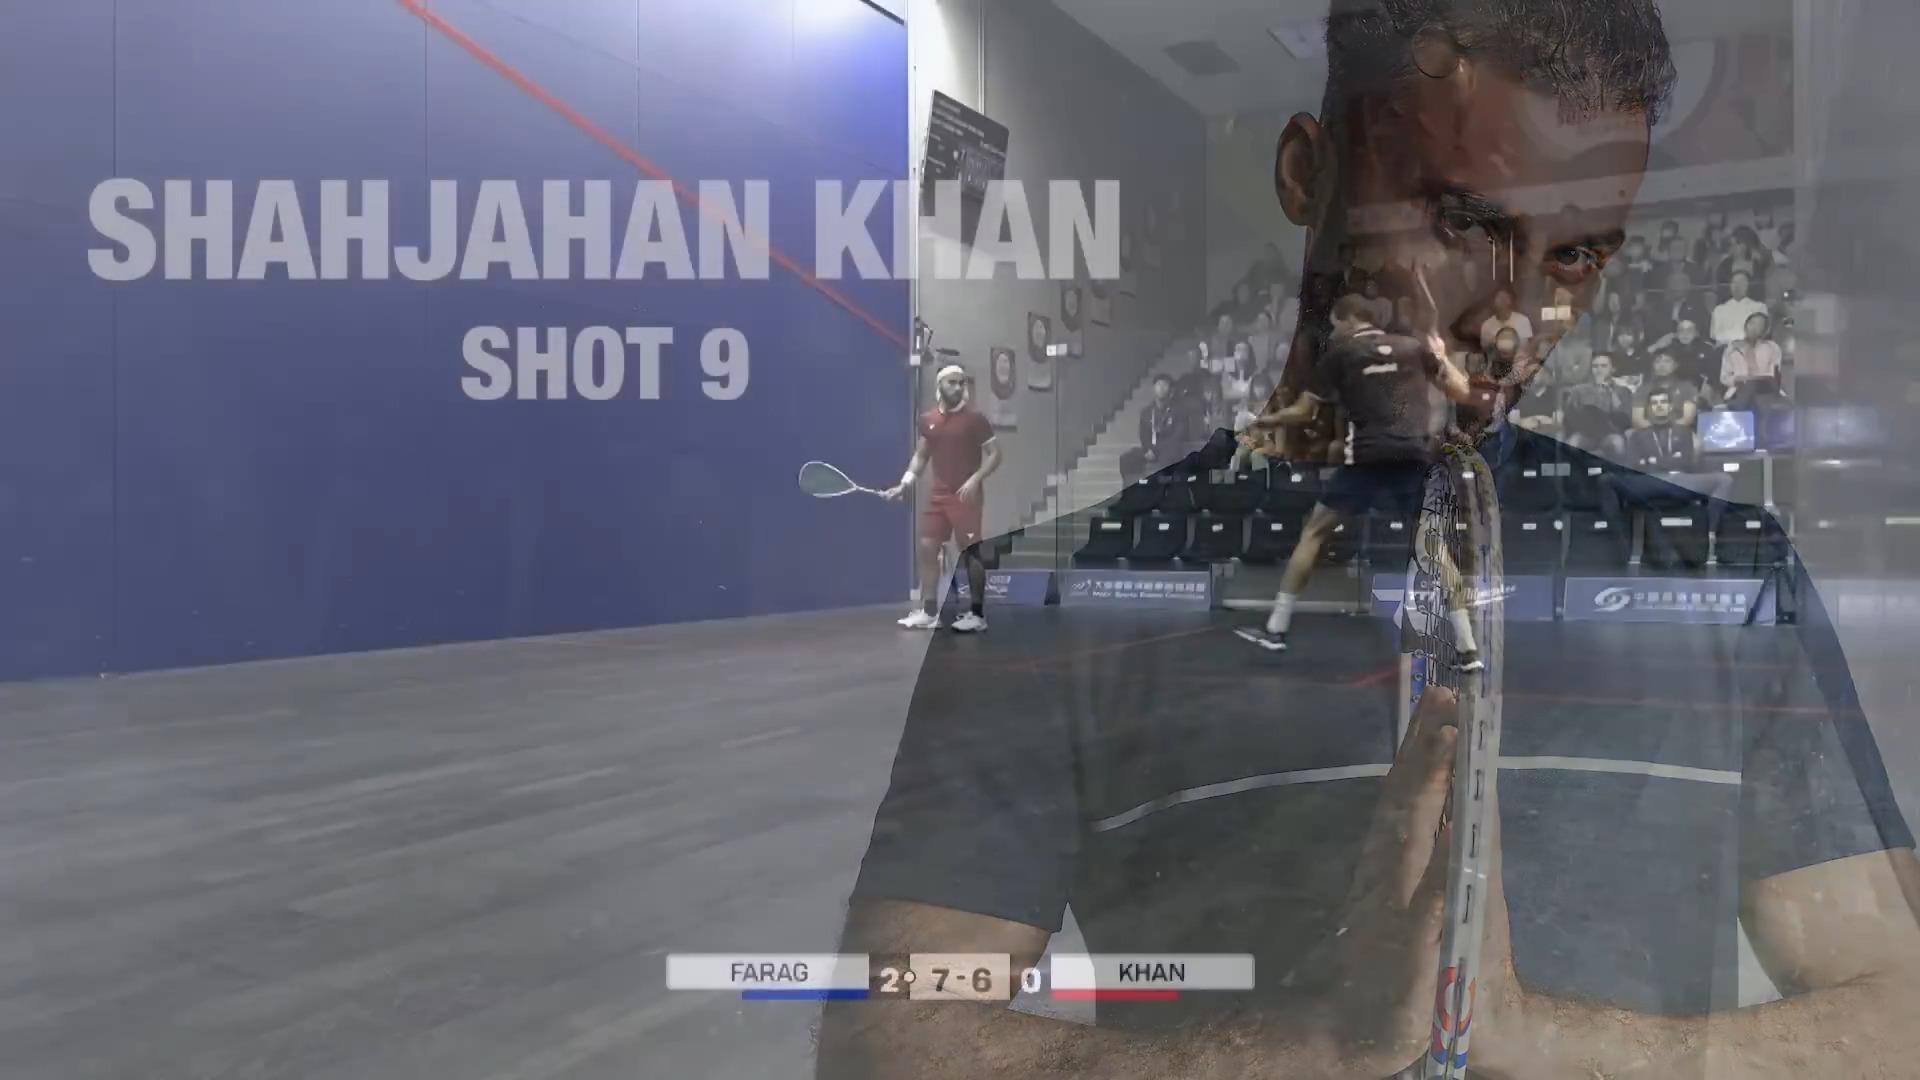Racket: (796, 455, 898, 513)
